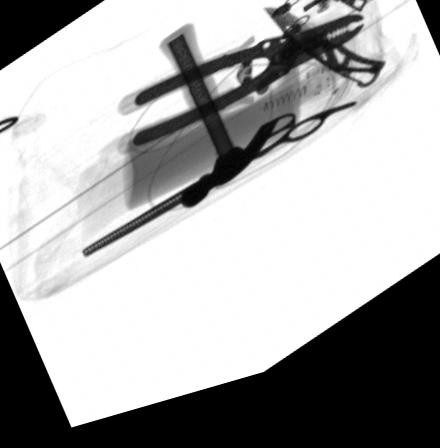Hammer: (155, 30, 282, 220)
Knife: (257, 19, 386, 112)
Pliers: (115, 31, 366, 163)
Scissors: (76, 118, 360, 264)
